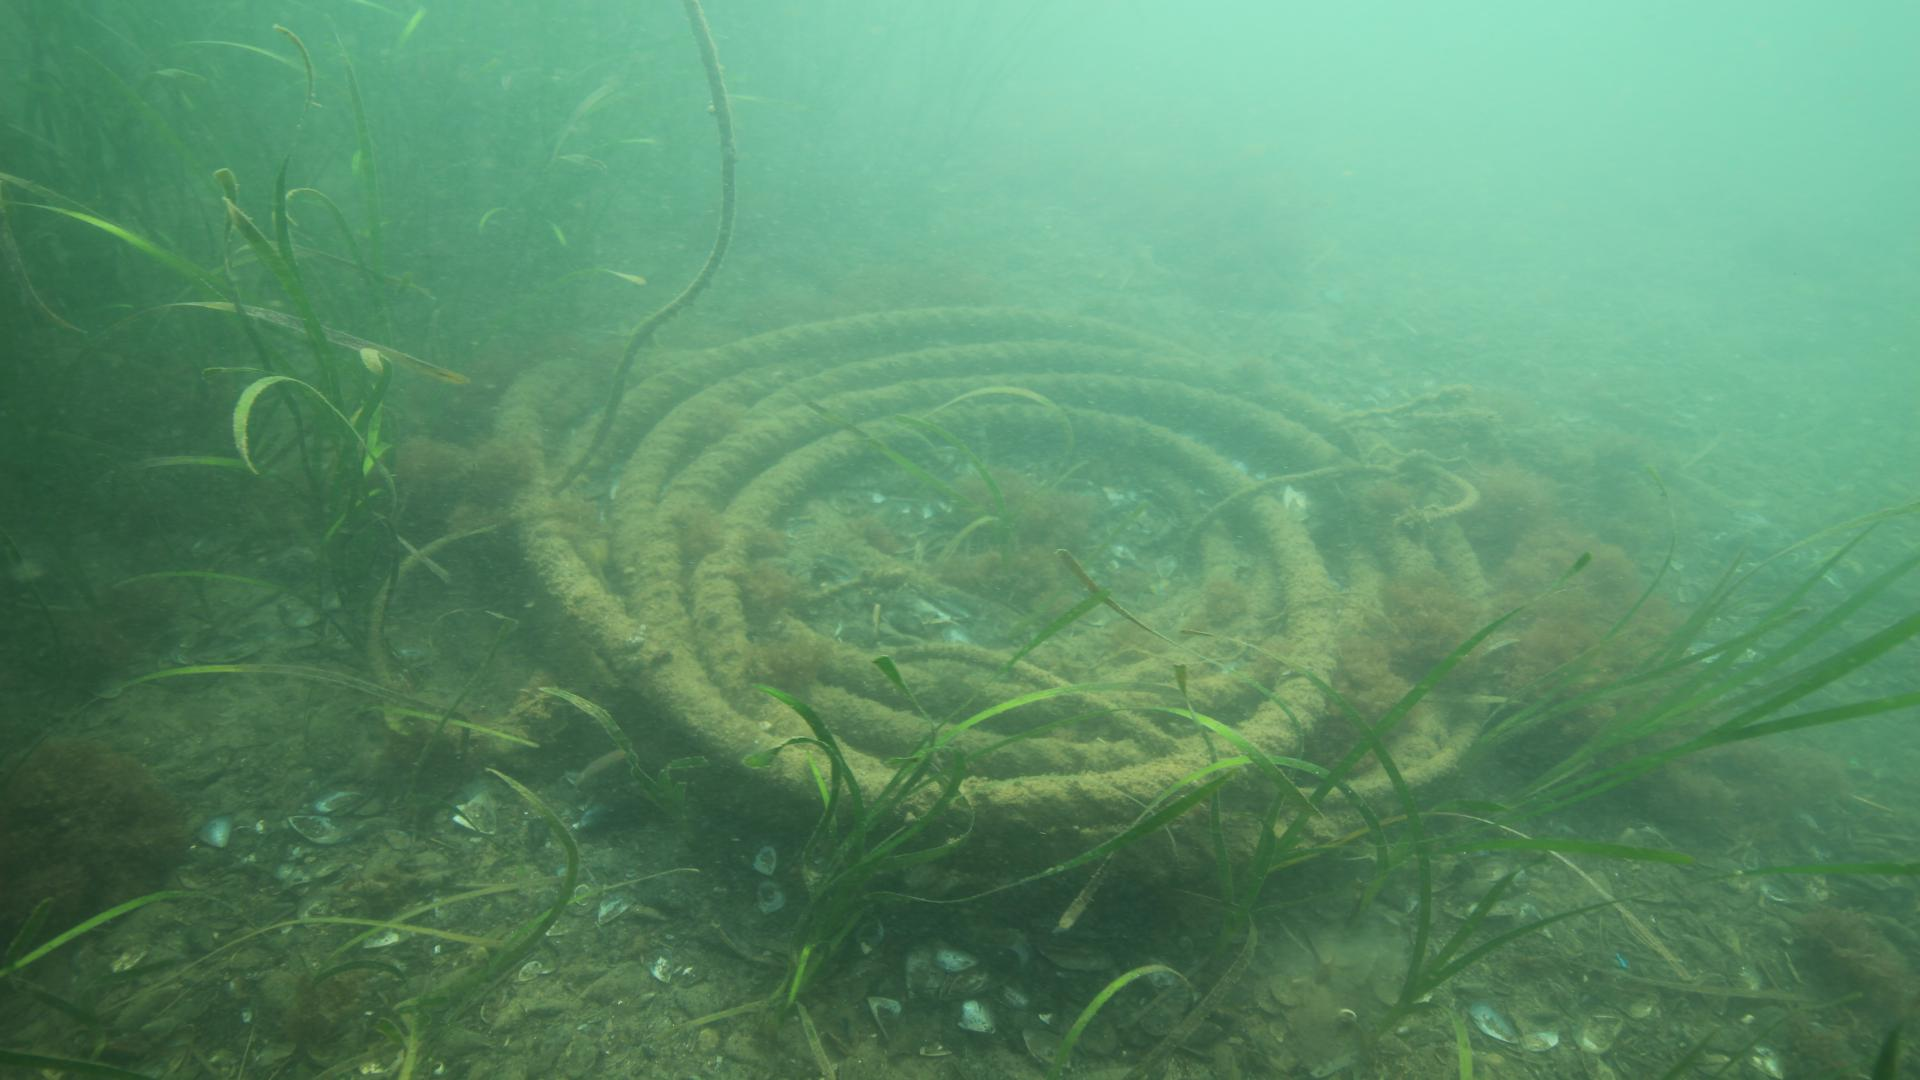bundle of ropes: (495, 305, 1501, 918)
